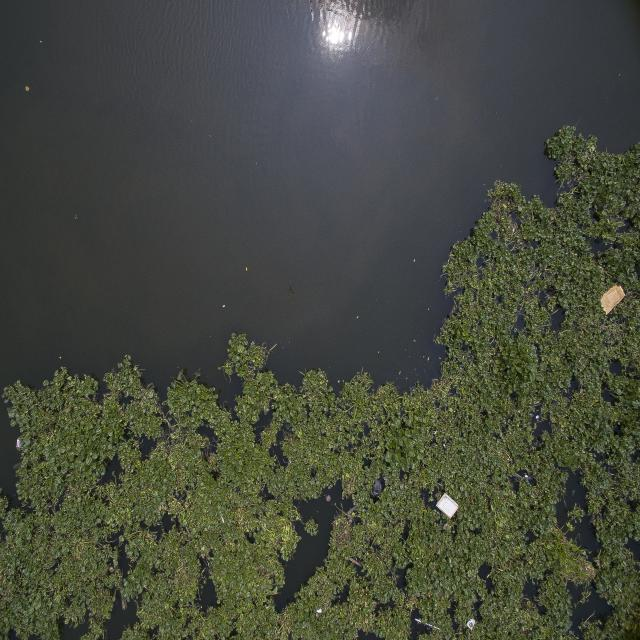debris: (600, 286, 625, 314), (437, 491, 458, 520), (415, 614, 443, 634), (218, 514, 230, 526), (23, 84, 31, 94), (315, 607, 325, 615), (58, 353, 63, 362)
plastic: (371, 478, 382, 496), (15, 437, 23, 451), (468, 616, 476, 630), (72, 213, 80, 222), (524, 472, 530, 482), (535, 413, 540, 420), (442, 442, 446, 449), (40, 38, 43, 46)
